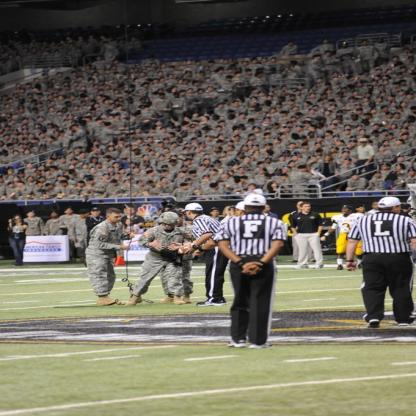Helmet: (153, 213, 180, 229)
